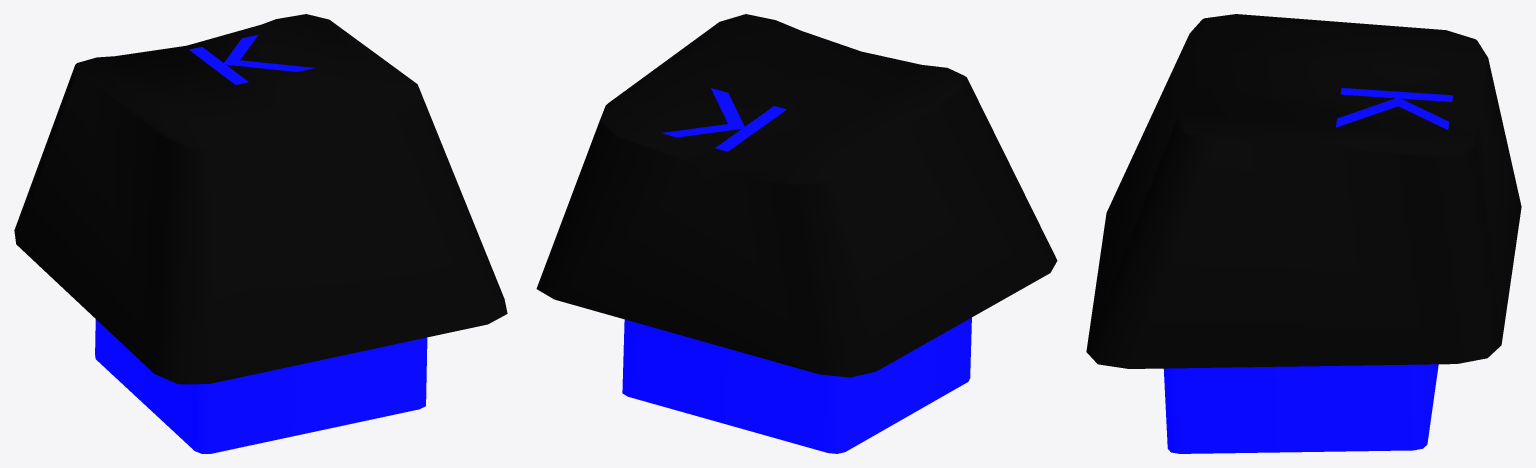
Rendered from k-CAYcz31u.glb.
The picture shows the model from 3 angles, left to right: view 1: azimuth 30°, elevation 25°; view 2: azimuth 150°, elevation 25°; view 3: azimuth 270°, elevation 25°; orthographic projection. The views are drawn at different scales.
Visible parts, largest first — view 1: StudyShelf_1119; view 2: StudyShelf_1119; view 3: StudyShelf_1119.
Boxes of the visible parts, x1,y1,x2,y2 form: StudyShelf_1119: (14,14,507,453); StudyShelf_1119: (536,14,1057,453); StudyShelf_1119: (1086,14,1521,453).
Size of the model in its own units: 4.35 by 3.55 by 4.35.
